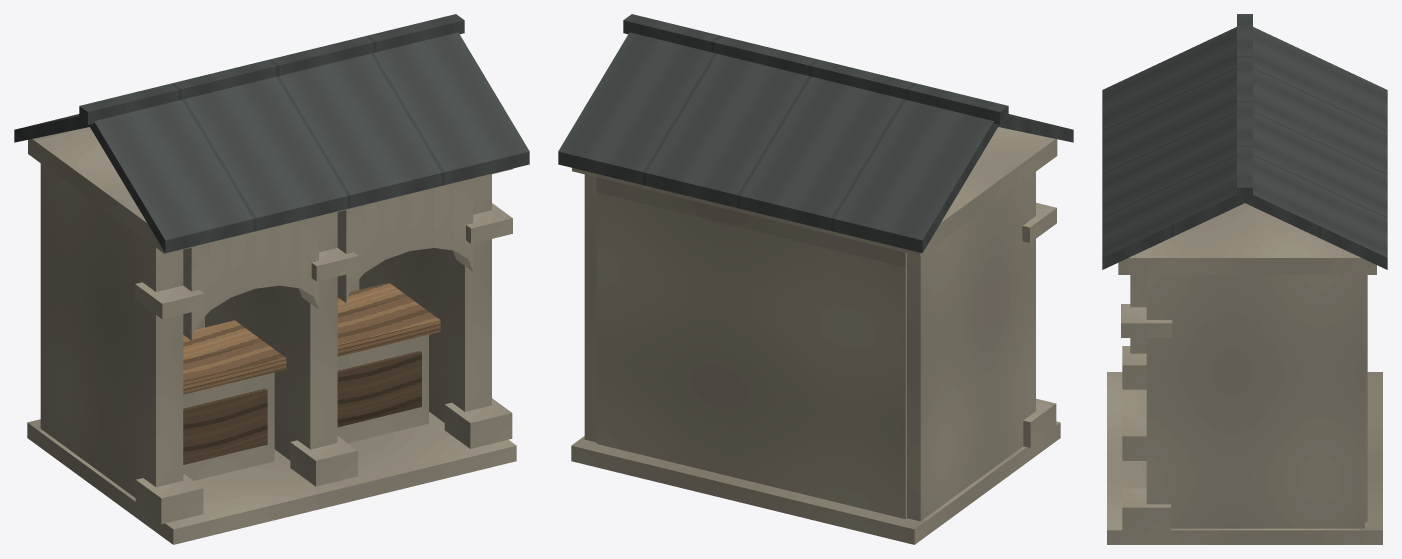
3 renders of one model, left to right at view 1: azimuth 30°, elevation 25°; view 2: azimuth 150°, elevation 25°; view 3: azimuth 270°, elevation 25°, orthographic. The views are drawn at different scales.
Visible parts, largest first — view 1: ijebu-ode; view 2: ijebu-ode; view 3: ijebu-ode.
Boxes of the visible parts, bbox=[...] form: ijebu-ode: bbox=[14, 14, 529, 544]; ijebu-ode: bbox=[558, 14, 1073, 544]; ijebu-ode: bbox=[1102, 14, 1387, 544].
Bounding box in the file's own units: 2.65 × 2.6 × 1.84.
1 material, 1 textured.
